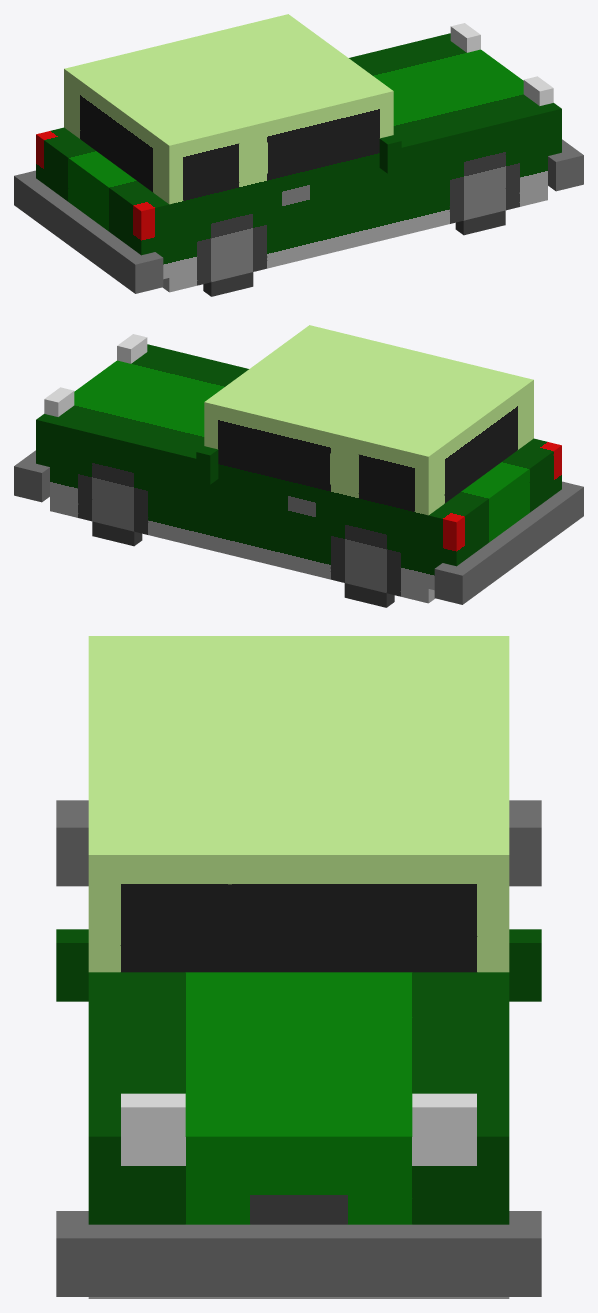
File: veh_wagon2.fbx
3 views of the same model, one above another, from view 1: azimuth 30°, elevation 25°; view 2: azimuth 150°, elevation 25°; view 3: azimuth 270°, elevation 25° (orthographic). The views are drawn at different scales.
Visible parts, largest first — view 1: veh_wagon2; view 2: veh_wagon2; view 3: veh_wagon2.
Part boxes in pixels (x1,y1,x2,y2): veh_wagon2: (14, 14, 583, 296); veh_wagon2: (14, 325, 583, 607); veh_wagon2: (56, 636, 541, 1298).
Bounding box in the file's own units: 3.2 × 1.5 × 1.1.
1 material, 1 textured.
